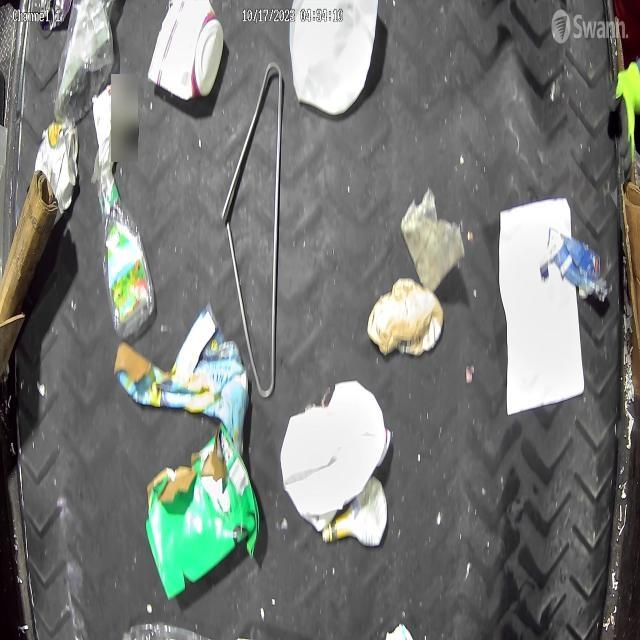milk_jug: (280, 380, 392, 530), (288, 1, 381, 113)
plastic_bottle: (99, 162, 158, 340)
